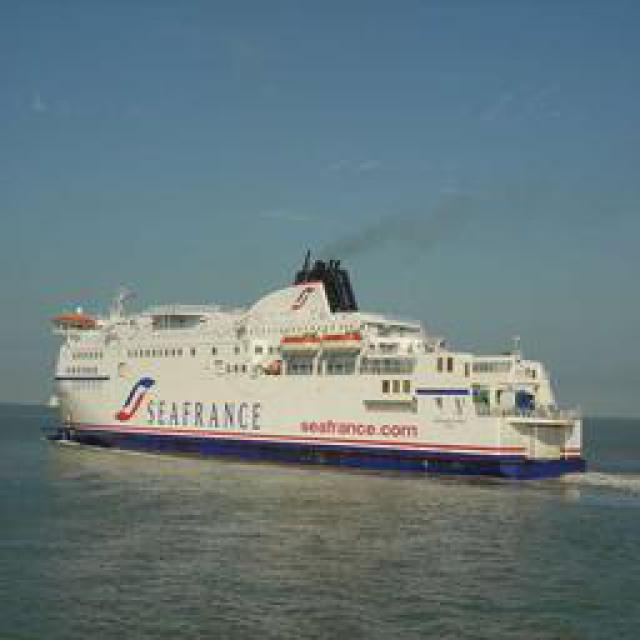Ship: (47, 244, 585, 474)
